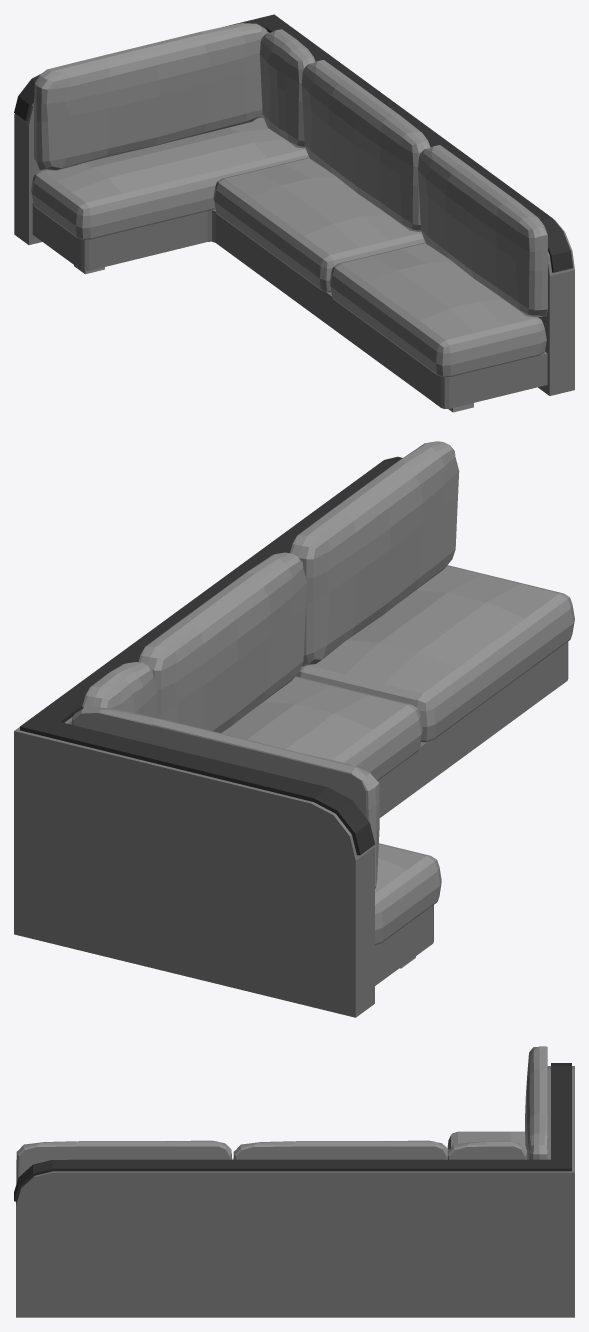
File: Int_SofaCorner01_2.fbx
The picture shows the model from 3 angles, top to bottom: view 1: azimuth 30°, elevation 25°; view 2: azimuth 150°, elevation 25°; view 3: azimuth 270°, elevation 25°; orthographic projection. The views are drawn at different scales.
Parts seen in each view (by area): view 1: Int_SofaCorner01_2; view 2: Int_SofaCorner01_2; view 3: Int_SofaCorner01_2.
Part boxes in pixels (box(x1,y1,x2,y2)): Int_SofaCorner01_2: box(14, 14, 574, 412); Int_SofaCorner01_2: box(14, 441, 574, 1017); Int_SofaCorner01_2: box(14, 1046, 574, 1317).
Size of what is drawn, in the model's own units: 210 by 415 by 132.
